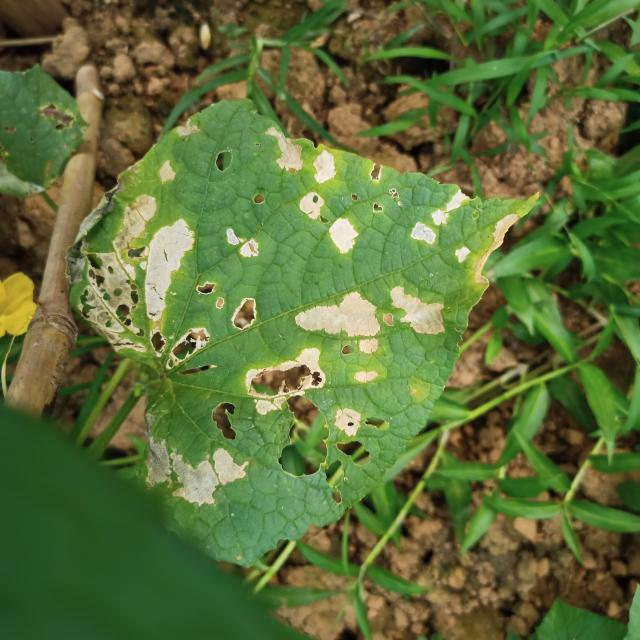disease_cucumber: (258, 123, 523, 357), (140, 368, 399, 530), (71, 185, 264, 382)
